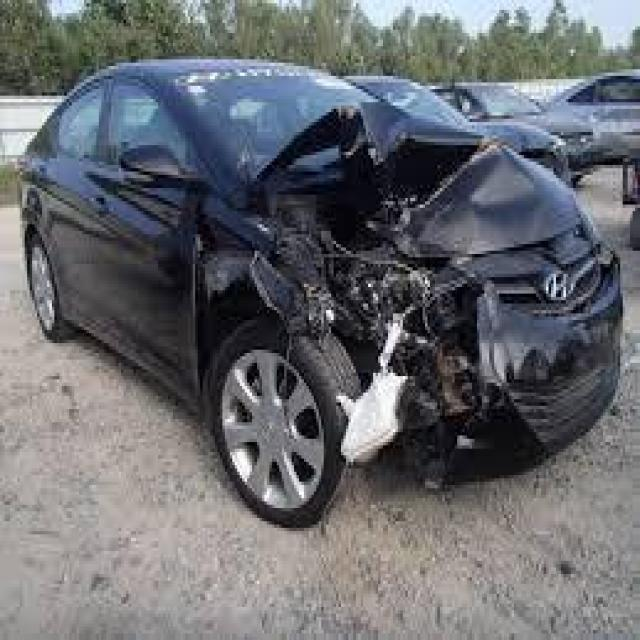damaged: (200, 99, 531, 482)
